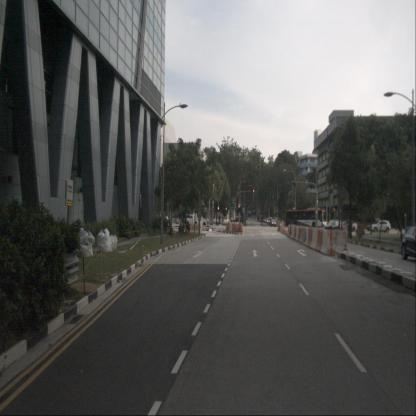human-pedestrian-adult: (182, 216, 186, 234), (166, 225, 172, 236), (398, 219, 402, 235), (187, 223, 191, 234), (178, 223, 182, 233), (230, 216, 233, 227), (219, 214, 221, 224), (231, 216, 233, 226), (218, 214, 220, 224), (241, 218, 243, 227)
movable_object-barrier: (334, 230, 348, 253), (320, 229, 332, 255), (314, 228, 324, 253), (330, 229, 341, 251), (310, 227, 318, 250), (302, 226, 310, 246), (189, 222, 202, 234), (306, 227, 312, 249), (343, 224, 350, 240), (292, 225, 298, 241), (297, 225, 302, 243), (300, 226, 304, 244), (232, 222, 239, 232), (295, 225, 299, 242), (289, 224, 293, 239), (291, 225, 295, 240), (287, 224, 291, 238), (239, 223, 243, 232), (226, 222, 230, 231), (229, 222, 233, 231)
movable_object-trafficcone: (329, 230, 335, 257), (343, 238, 348, 252), (284, 227, 287, 234), (286, 227, 288, 235)
vehicle-bus-rigid: (284, 208, 326, 230)
vehicle-car: (401, 226, 415, 260), (370, 220, 391, 233), (324, 219, 342, 234), (338, 220, 358, 232), (192, 213, 209, 226), (366, 221, 385, 231), (184, 214, 198, 226), (269, 219, 276, 226), (268, 217, 272, 225)
